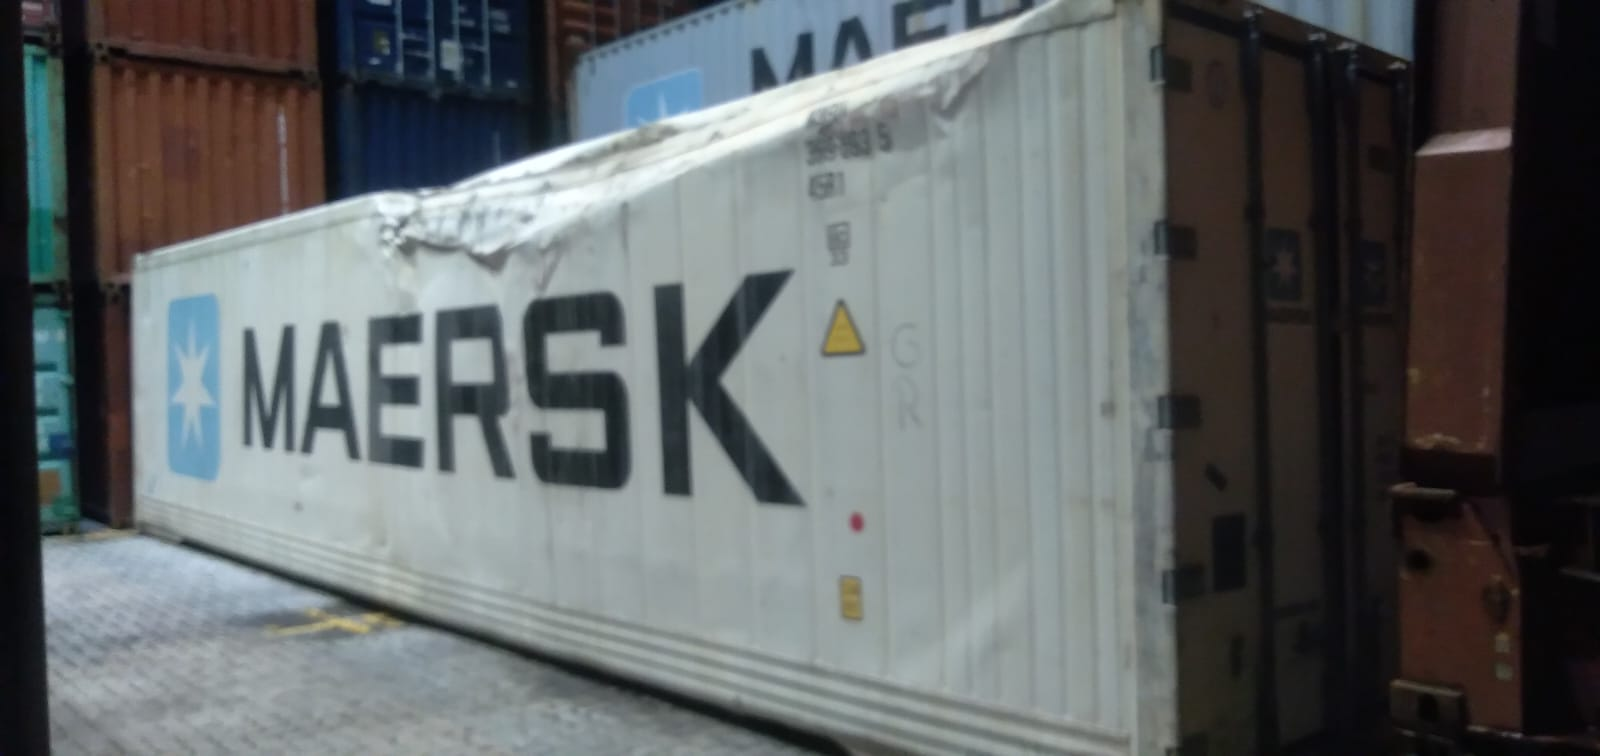moderate: (371, 123, 986, 289)
